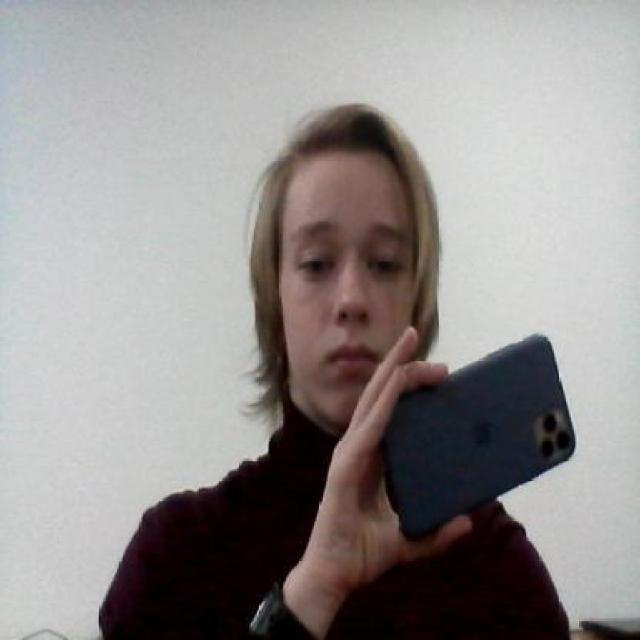mobile: (369, 325, 577, 552)
